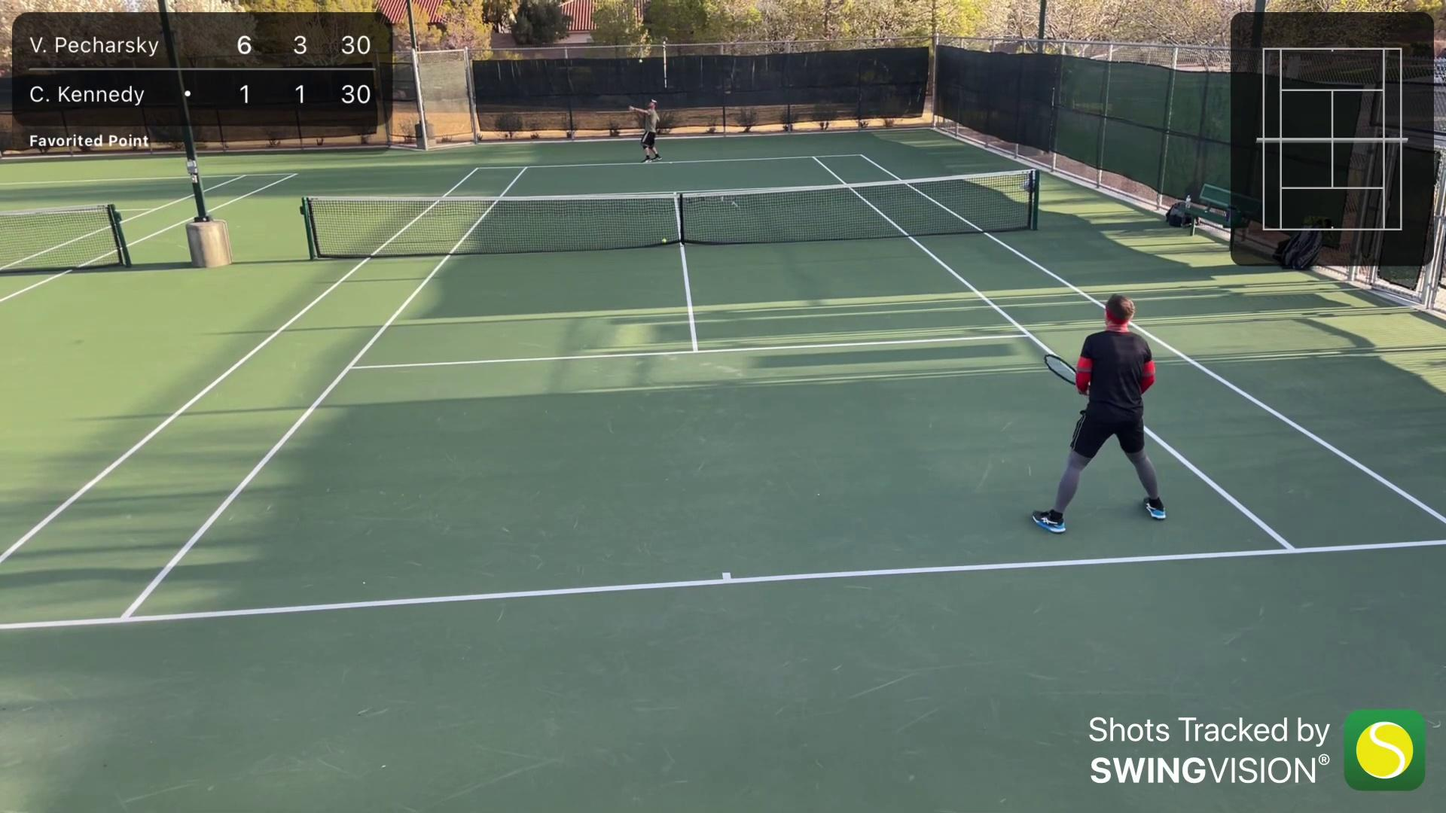ball: (660, 237, 668, 244), (637, 58, 644, 65)
